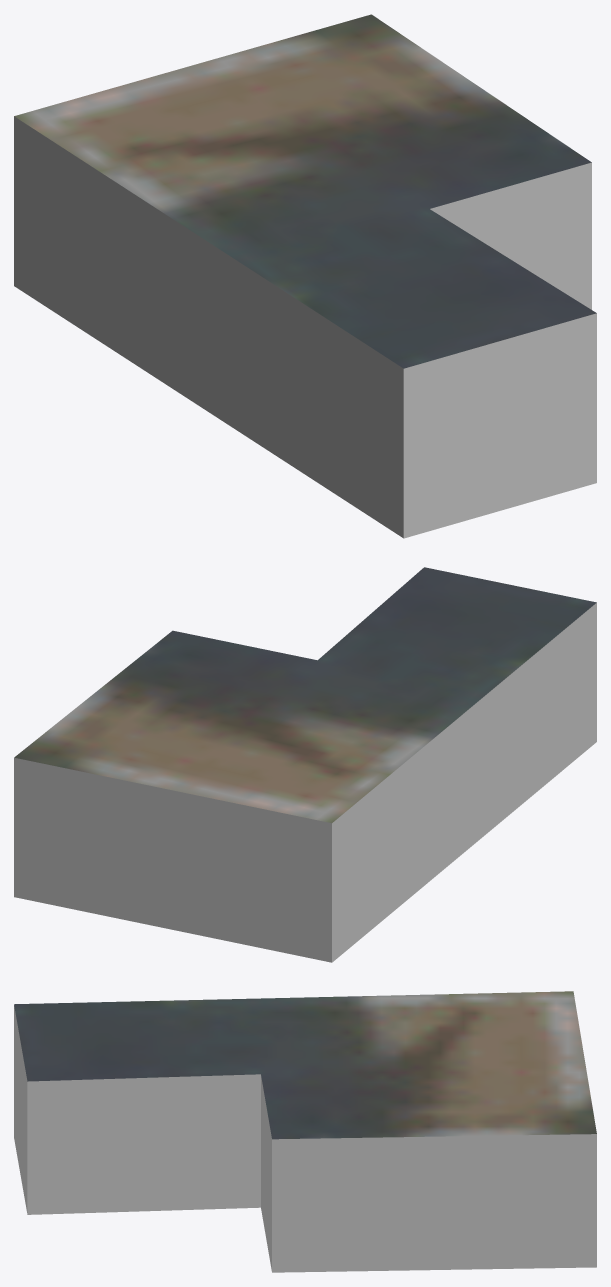
The model's file is DEBW_0010007Txdv.gltf.
The picture shows the model from 3 angles, top to bottom: view 1: azimuth 30°, elevation 25°; view 2: azimuth 150°, elevation 25°; view 3: azimuth 270°, elevation 25°; orthographic projection. The views are drawn at different scales.
Parts seen in each view (by area): view 1: Z_UP; view 2: Z_UP; view 3: Z_UP.
Part boxes in pixels (x1,y1,x2,y2): Z_UP: (14,14,596,538); Z_UP: (14,567,596,962); Z_UP: (14,991,596,1272).
Bounding box in the file's own units: 5.97 × 2.51 × 9.94.
2 materials, 1 textured.
